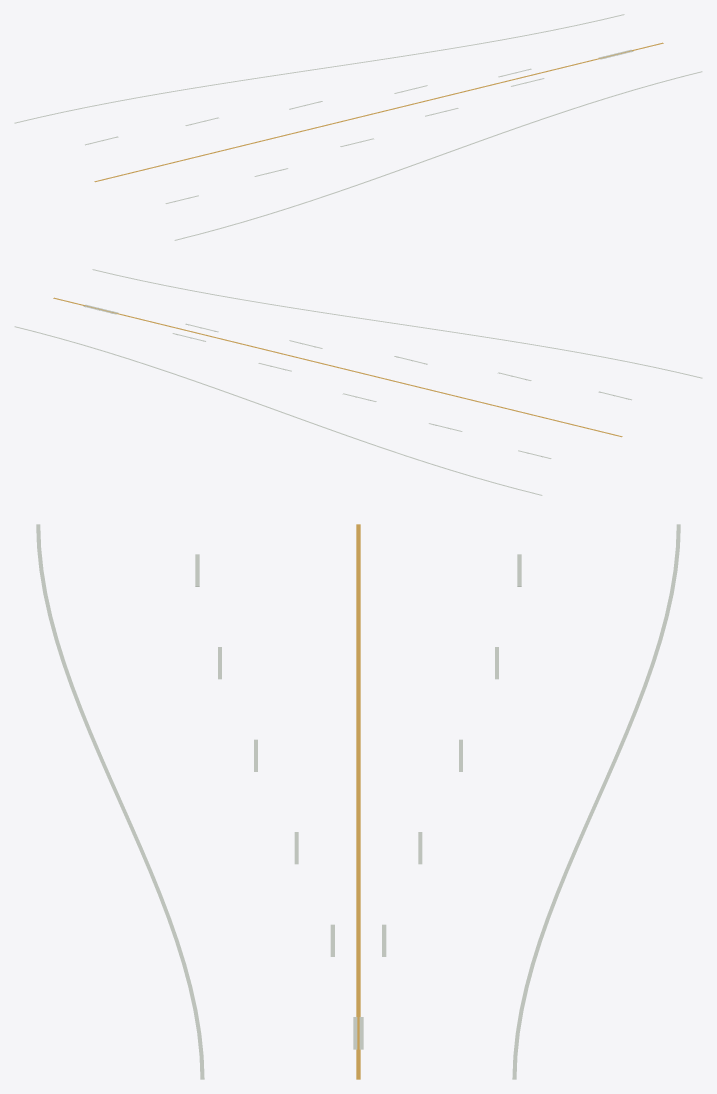
The model's file is RoadPlan_TransitionMarking_4L_2L.glb.
3 views of the same model, one above another, from view 1: azimuth 30°, elevation 25°; view 2: azimuth 150°, elevation 25°; view 3: azimuth 270°, elevation 25° (orthographic). The views are drawn at different scales.
Parts seen in each view (by area): view 1: RoadPlan_TransitionMarking_4L_2L_Center, RoadPlan_TransitionMarking_4L_2L_Edge_1, RoadPlan_TransitionMarking_4L_2L_Edge_-1; view 2: RoadPlan_TransitionMarking_4L_2L_Center, RoadPlan_TransitionMarking_4L_2L_Edge_-1, RoadPlan_TransitionMarking_4L_2L_Edge_1; view 3: RoadPlan_TransitionMarking_4L_2L_Center, RoadPlan_TransitionMarking_4L_2L_Edge_-1, RoadPlan_TransitionMarking_4L_2L_Edge_1, RoadPlan_TransitionMarking_4L_2L_MergeDash_-1, RoadPlan_TransitionMarking_4L_2L_MergeDash_1.
Boxes of the visible parts, x1,y1,x2,y2 form: RoadPlan_TransitionMarking_4L_2L_Center: (94,42,663,182); RoadPlan_TransitionMarking_4L_2L_Edge_1: (14,14,624,123); RoadPlan_TransitionMarking_4L_2L_Edge_-1: (174,71,702,240); RoadPlan_TransitionMarking_4L_2L_Center: (53,297,622,437); RoadPlan_TransitionMarking_4L_2L_Edge_-1: (92,269,702,378); RoadPlan_TransitionMarking_4L_2L_Edge_1: (14,326,542,495); RoadPlan_TransitionMarking_4L_2L_Center: (356,524,360,1079); RoadPlan_TransitionMarking_4L_2L_Edge_-1: (36,524,204,1079); RoadPlan_TransitionMarking_4L_2L_Edge_1: (512,524,680,1079); RoadPlan_TransitionMarking_4L_2L_MergeDash_-1: (195,554,357,1049); RoadPlan_TransitionMarking_4L_2L_MergeDash_1: (359,554,521,1049).
Bounding box in the file's own units: 24 × 0.0007 × 11.77.
